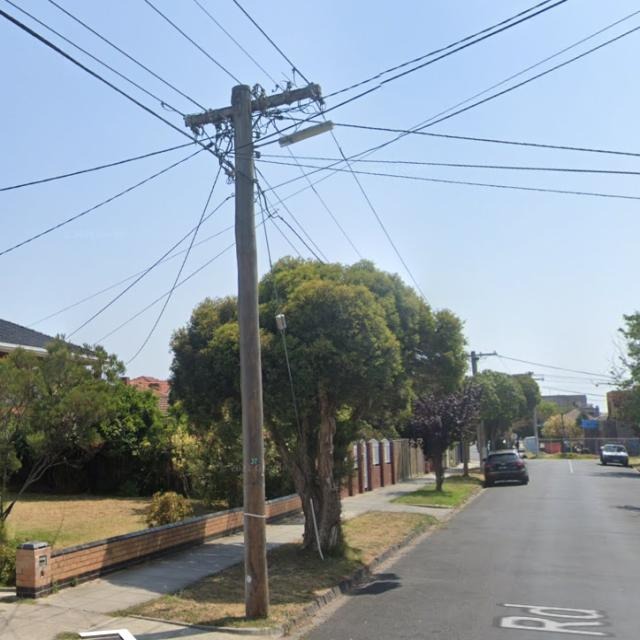crossarm: (184, 80, 325, 131), (468, 351, 498, 364)
streetlight: (254, 119, 336, 150)
timber-pole: (230, 84, 270, 620), (470, 350, 489, 474)
